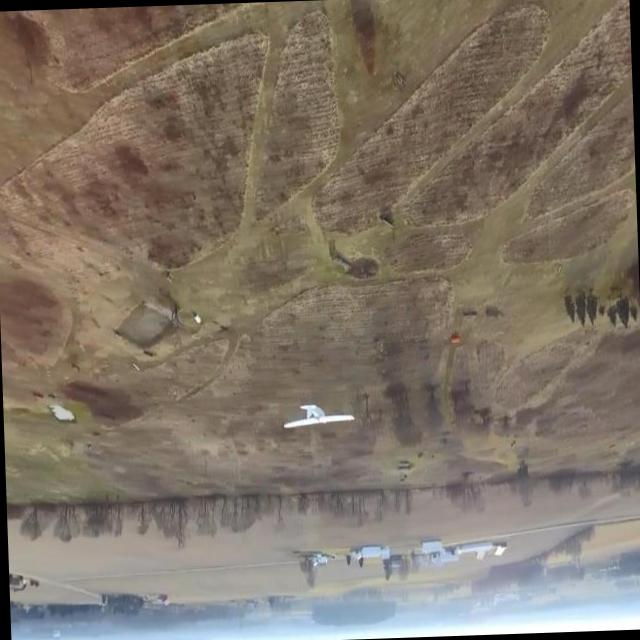UAV: (261, 386, 408, 486)
